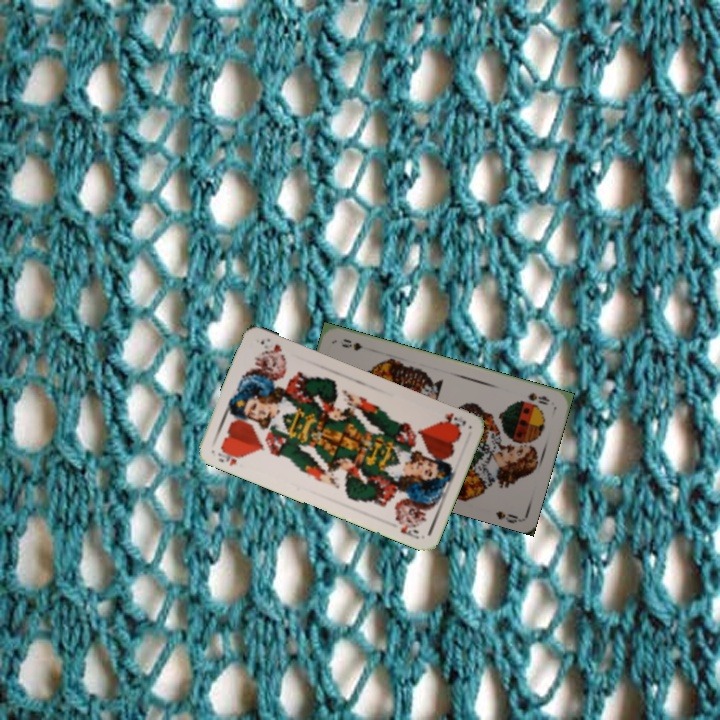HO: (214, 444, 245, 469), (436, 409, 469, 432)
SO: (523, 388, 552, 407)
